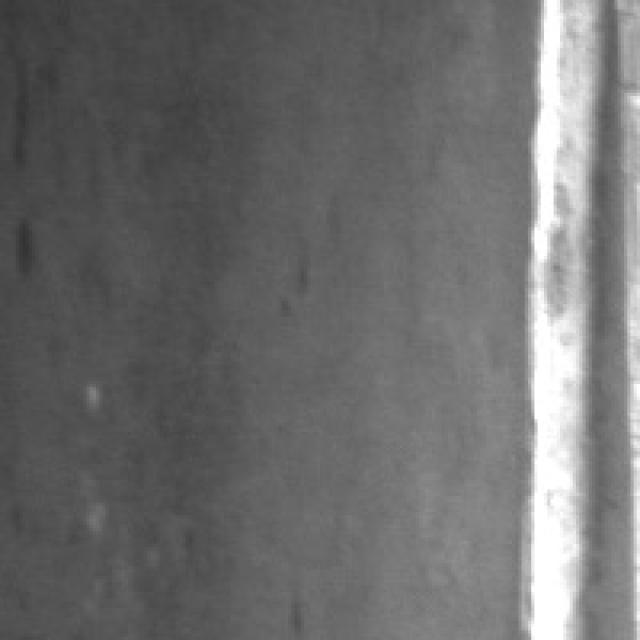scratches: (518, 0, 640, 634)
